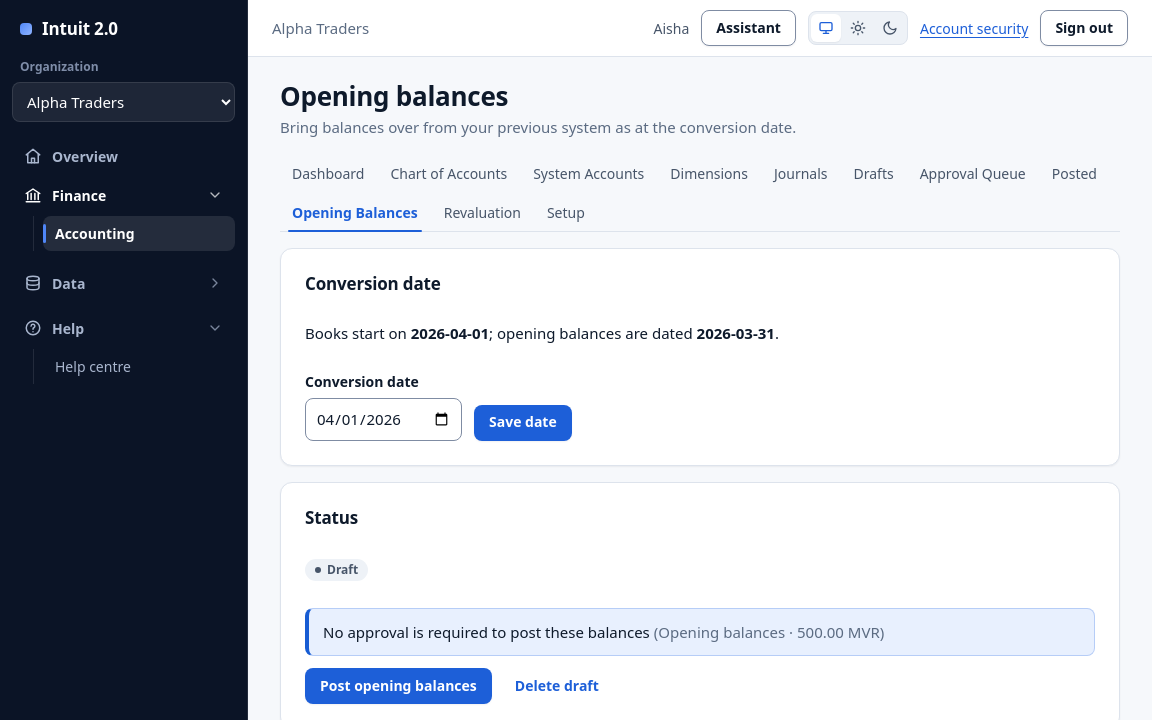
Test case: opening balances workflow › posts after re-authentication and links the journals
Click the button "Post opening balances" at [398, 686], box [305, 668, 492, 704]
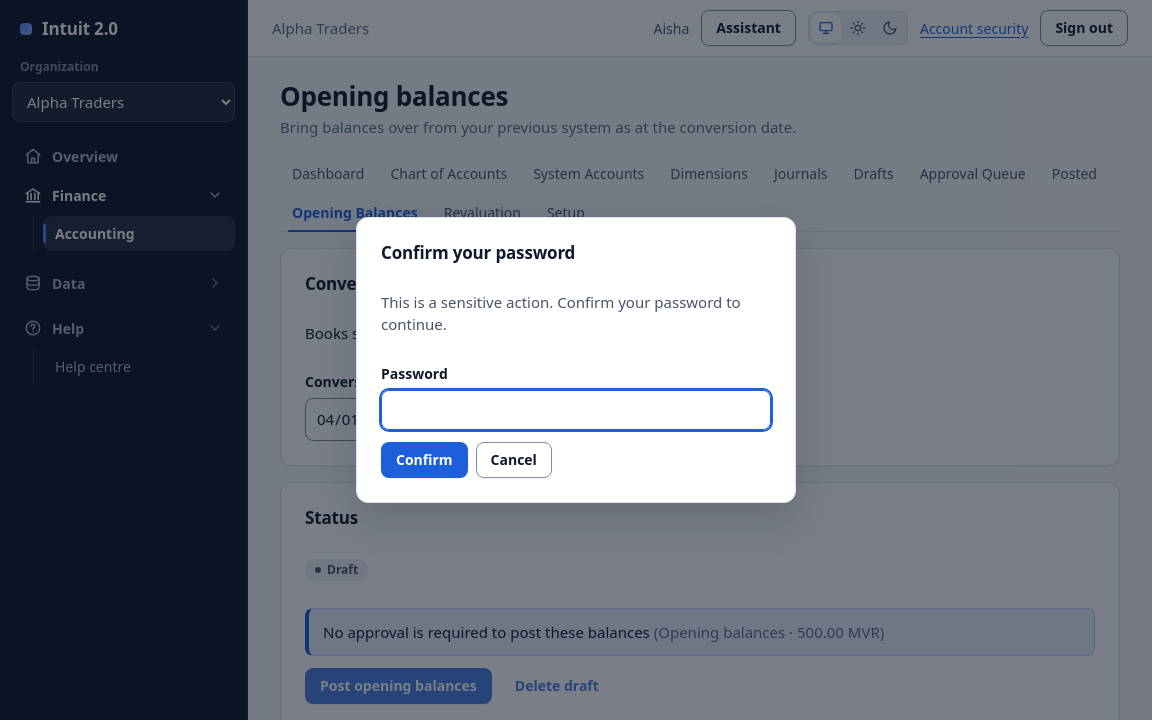
Type "correct horse battery staple" into the password field labelled "Password" at [576, 410], box [381, 390, 771, 430]
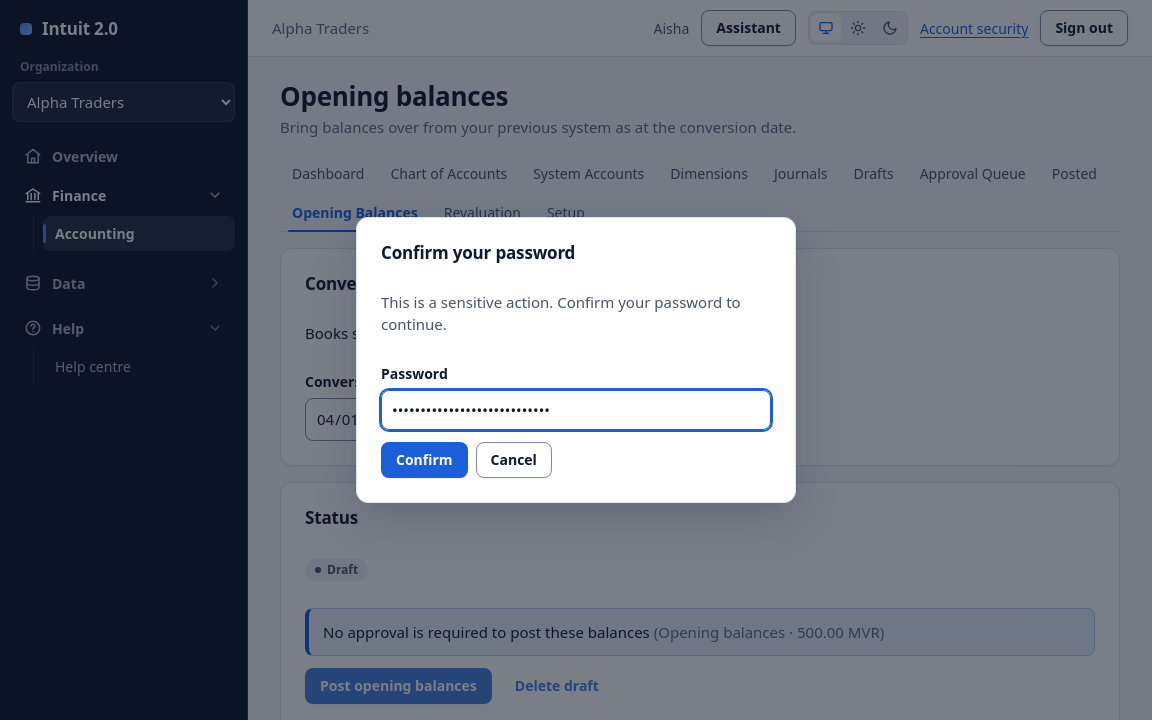
Click the button "Confirm" at [424, 460], box [381, 442, 468, 478]
(page scrolled)
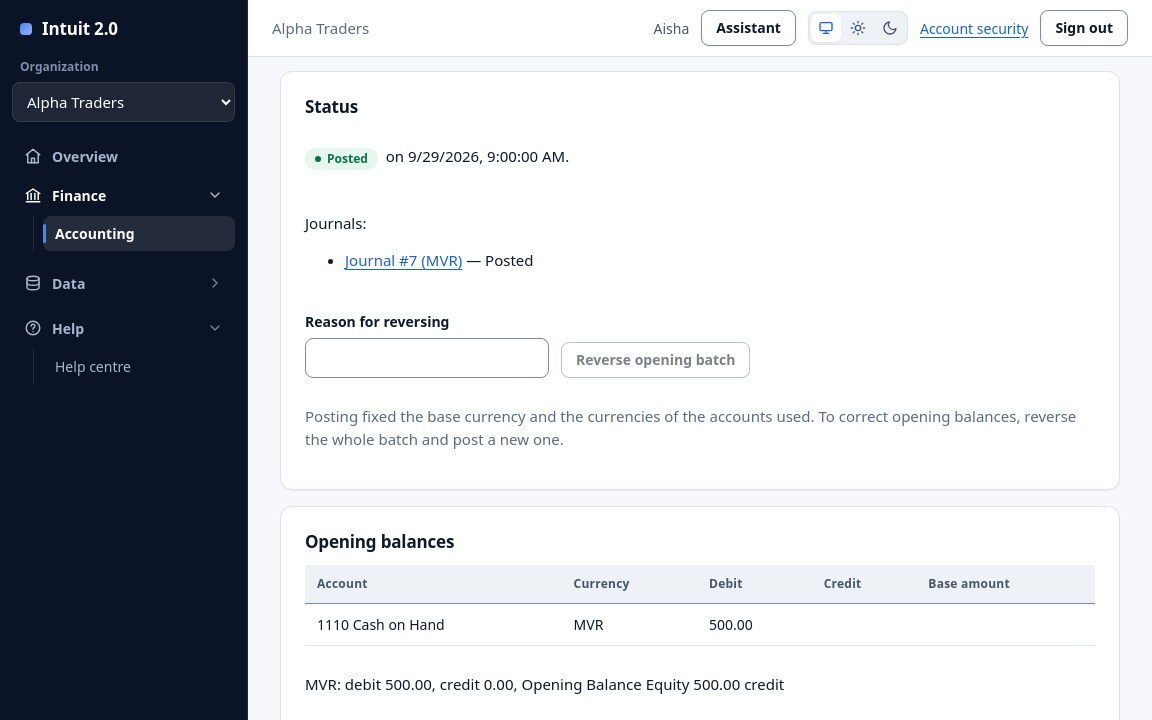
Expected: the link "Journal #7 (MVR)" is shown, [345, 250, 462, 270]
Expected: the button "Reverse opening batch" is disabled, [561, 342, 750, 378]
